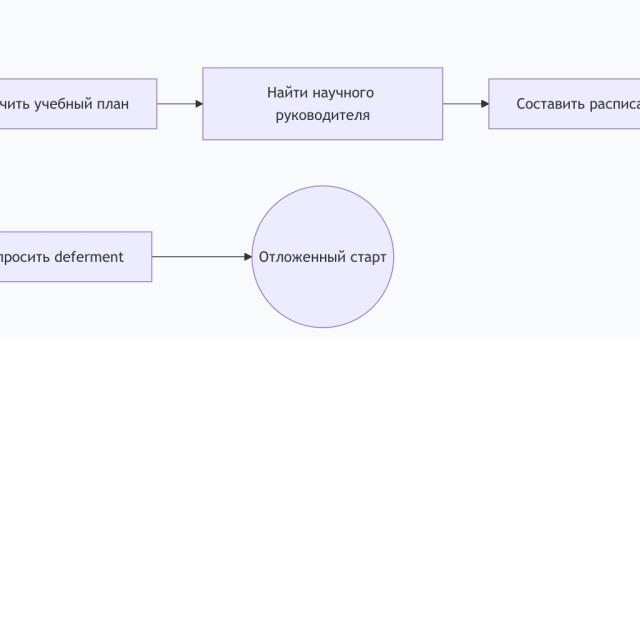arrow: (153, 249, 251, 266), (157, 95, 204, 113), (444, 97, 490, 111)
circle: (253, 184, 395, 332)
rectangle: (200, 70, 443, 140)
